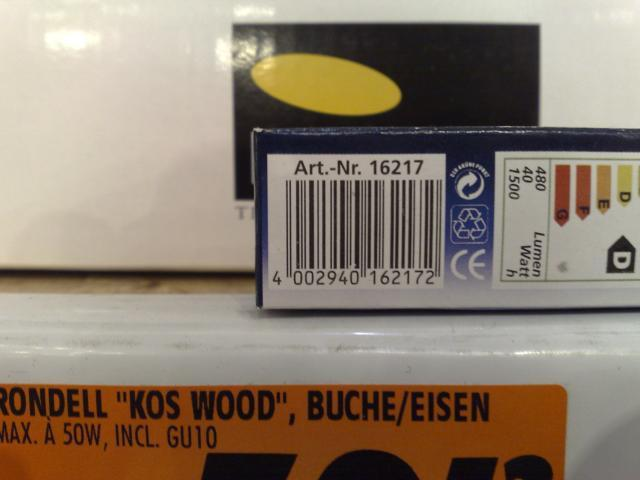Barcode: (267, 154, 447, 288)
